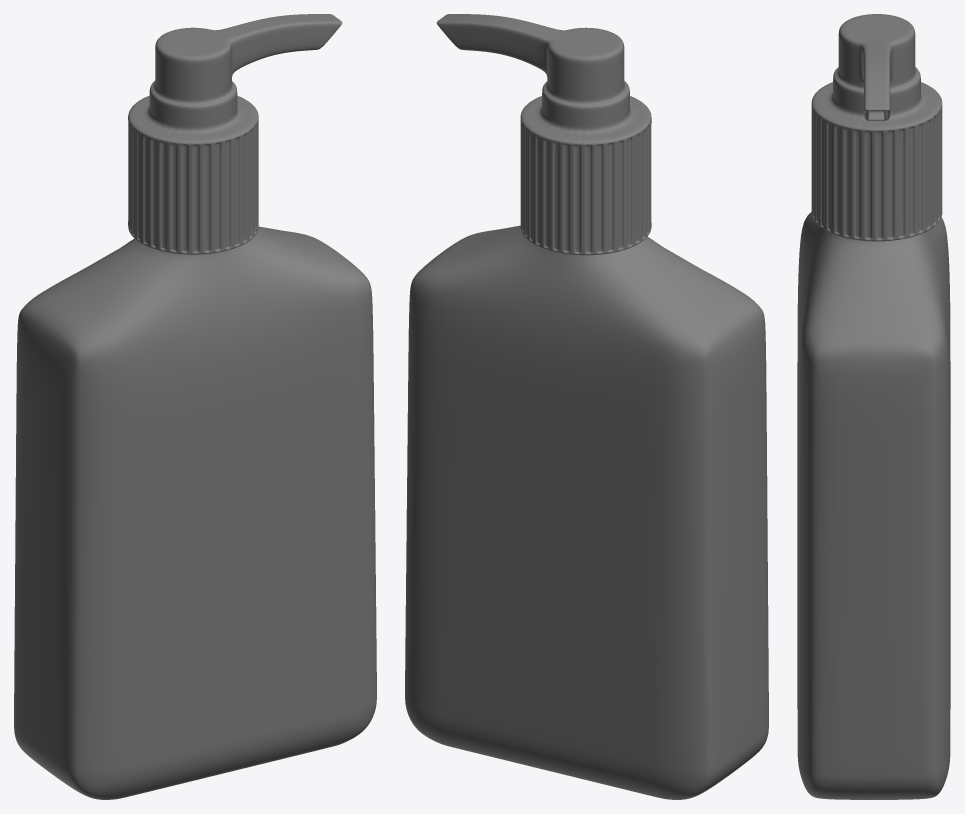
Rendered from sanitizer.fbx.
The picture shows the model from 3 angles, left to right: view 1: azimuth 30°, elevation 25°; view 2: azimuth 150°, elevation 25°; view 3: azimuth 270°, elevation 25°; orthographic projection.
Parts seen in each view (by area): view 1: body, top; view 2: body, top; view 3: body, top.
Part boxes in pixels (x1,y1,x2,y2): body: [14, 226, 376, 799]; top: [128, 14, 342, 254]; body: [405, 225, 768, 799]; top: [436, 14, 651, 255]; body: [797, 212, 950, 799]; top: [811, 14, 942, 241].
Size of the model in its own units: 164 by 358 by 69.54.
